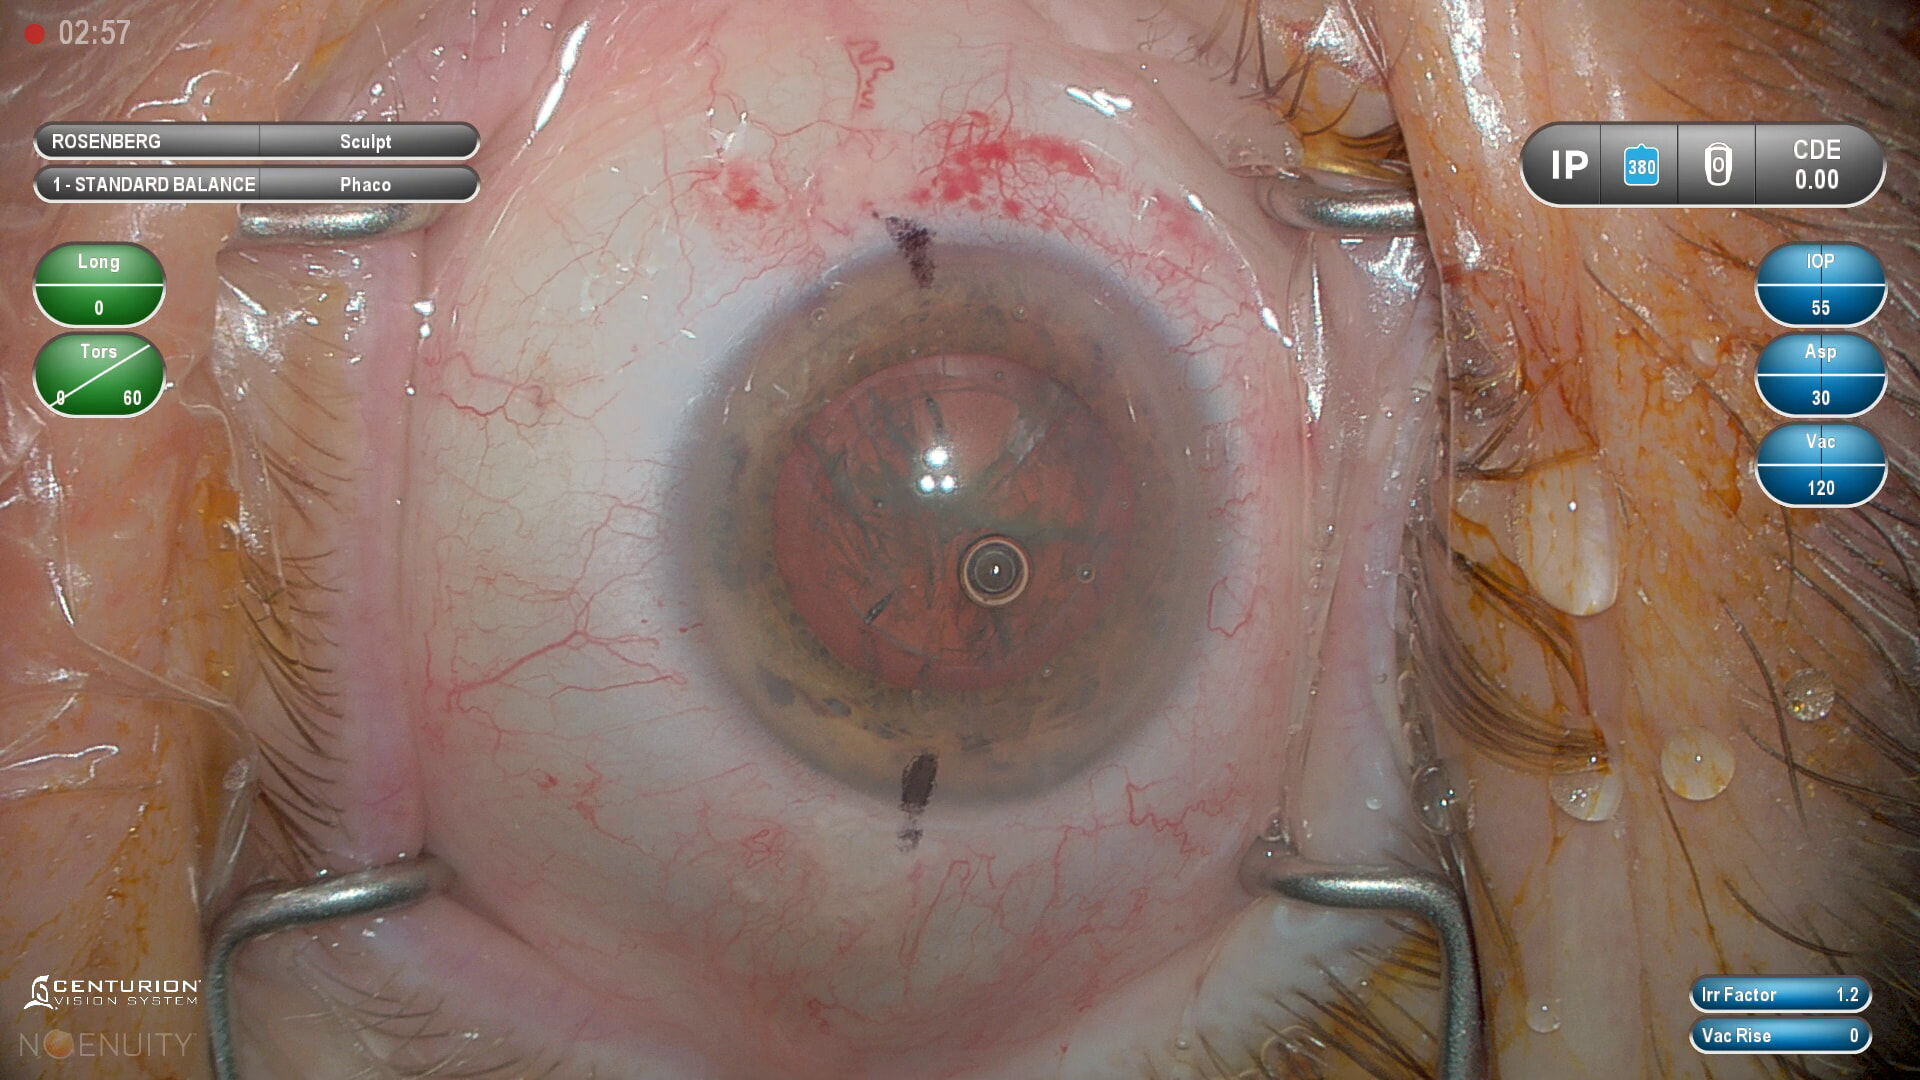iris: (684, 248, 1213, 795)
pupil: (769, 351, 1144, 692)
